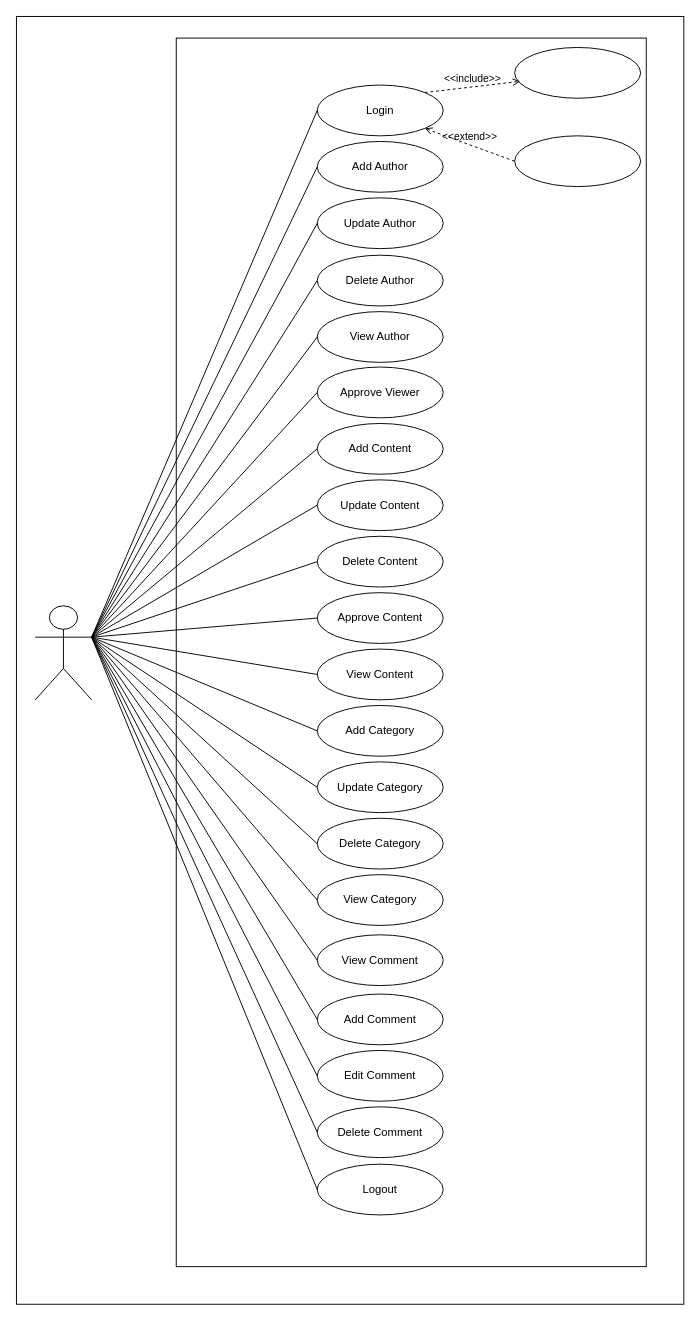
The diagram is 700 pixels wide and 1321 high, and some of its shapes have lost their labels. The centre of each missing label's shape, as x and y in pixels:
"Check Validity" goes at [577,72].
"Display Error" goes at [577,161].
"Editor" goes at [63,652].
